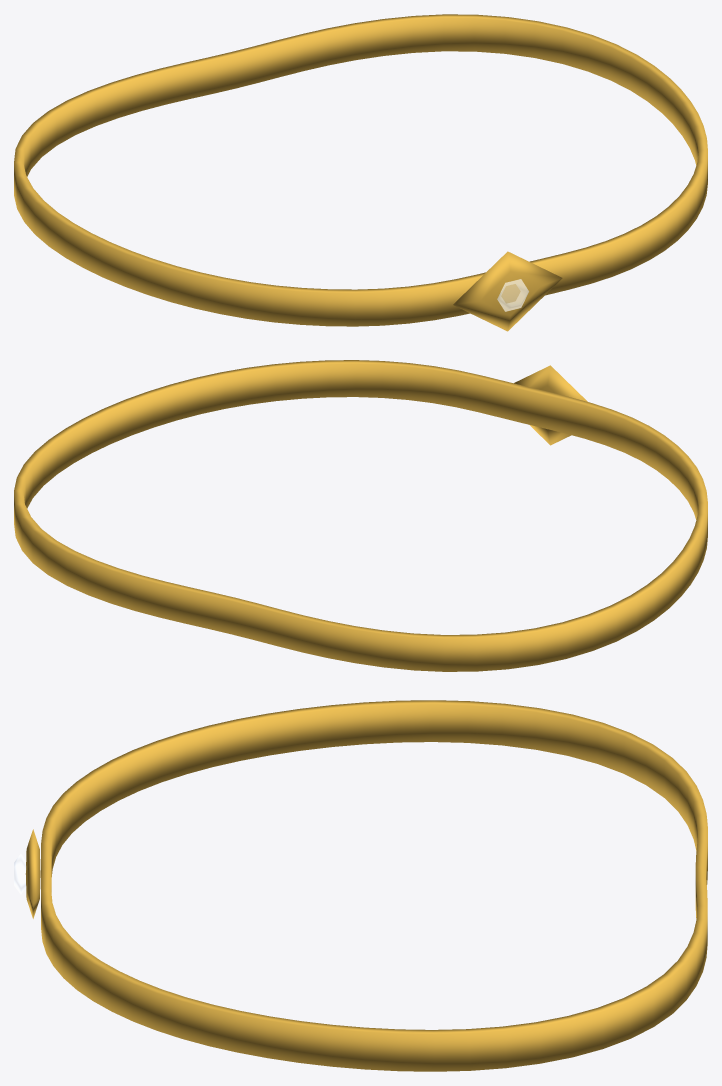
File: thin_gold_belt.glb
The picture shows the model from 3 angles, top to bottom: view 1: azimuth 30°, elevation 25°; view 2: azimuth 150°, elevation 25°; view 3: azimuth 270°, elevation 25°; orthographic projection. The views are drawn at different scales.
Parts seen in each view (by area): view 1: thin_gold_belt; view 2: thin_gold_belt; view 3: thin_gold_belt.
Boxes of the visible parts, x1,y1,x2,y2 form: thin_gold_belt: (14,14,707,331); thin_gold_belt: (14,360,707,671); thin_gold_belt: (14,700,707,1071).
Size of the model in its own units: 0.1815 by 0.023 by 0.1593.
